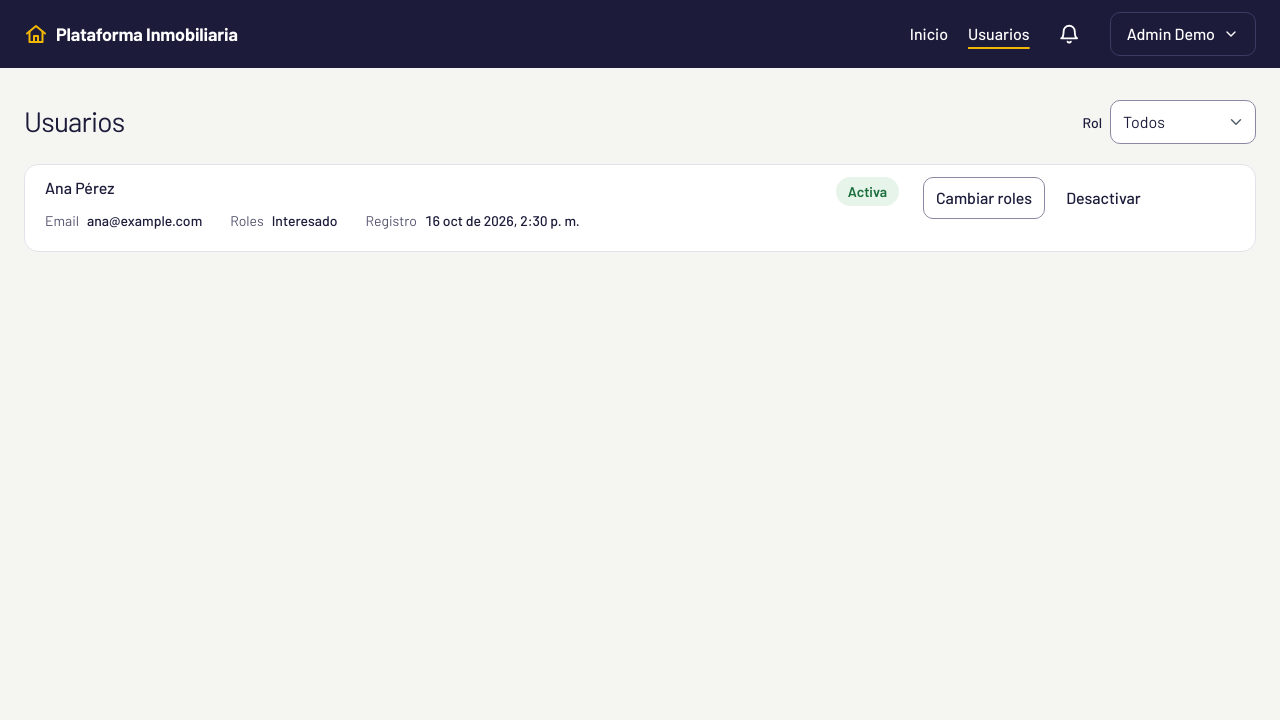
Test: AdminUsersPage › saves the new roles and closes the panel
Click the button with aria-label "Cambiar roles: Ana Pérez". click: [984, 198]
box: [923,177,1045,219]
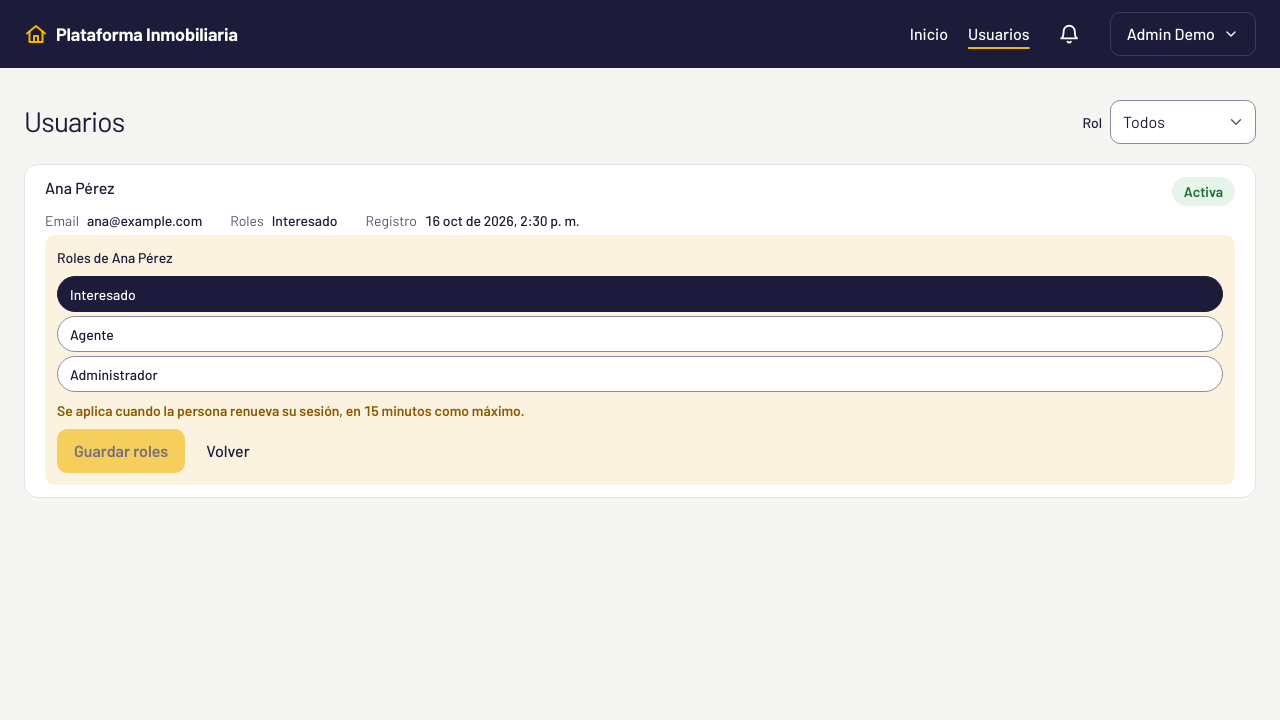
Click the checkbox labelled "Agente". click: [92, 334]
box: [57,316,1223,352]
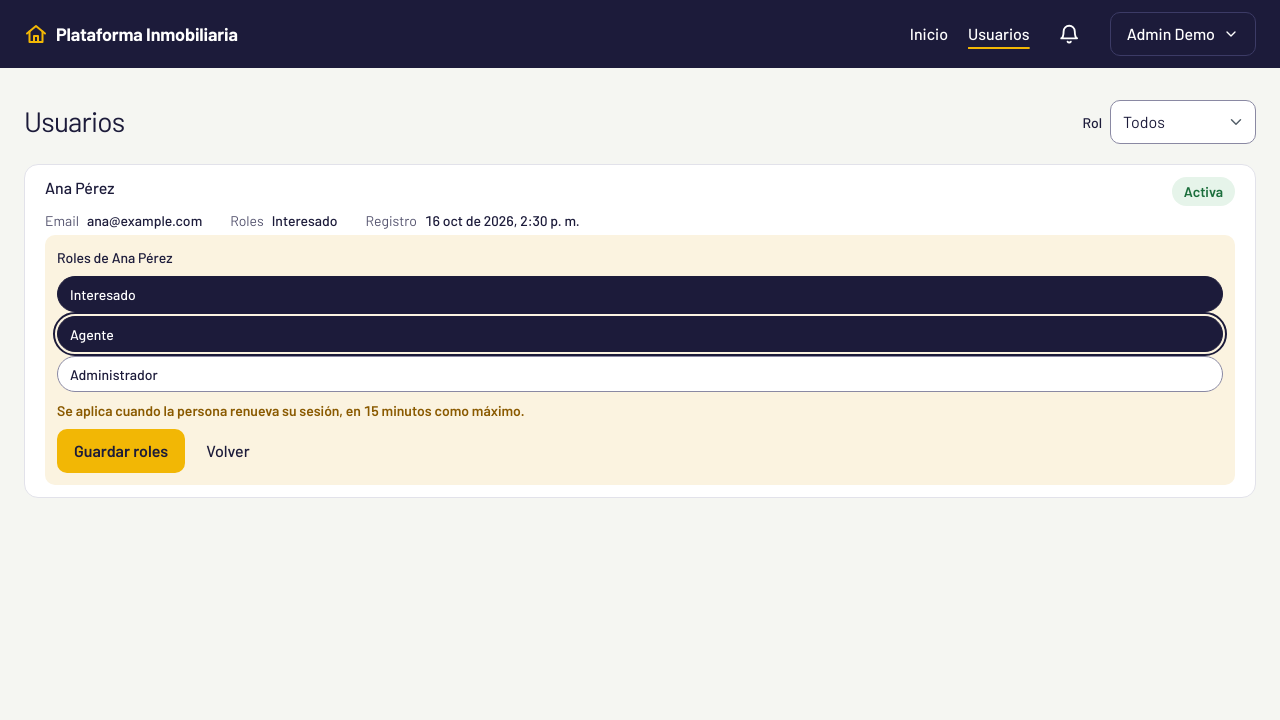
Click the button "Guardar roles". click: [121, 451]
box: [57,429,185,473]
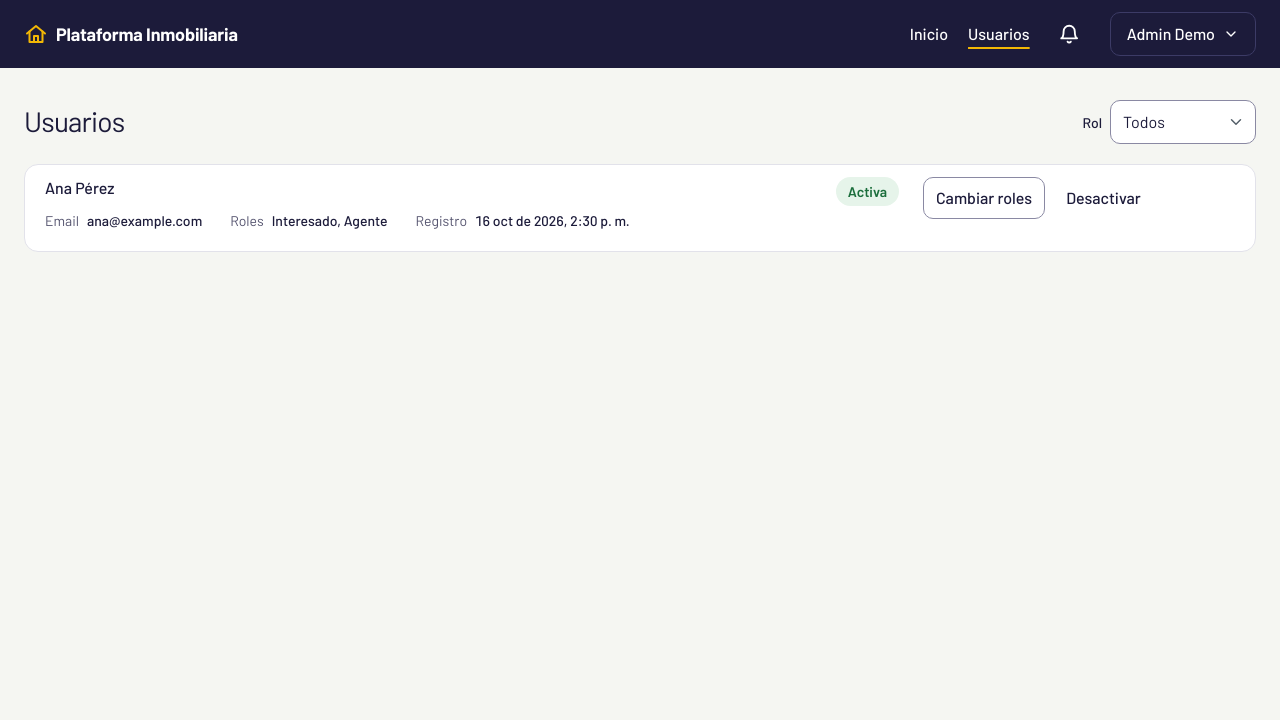
Now the text "Interesado, Agente" is shown, box [272,210,388,231]
Now the button "Guardar roles" is gone
